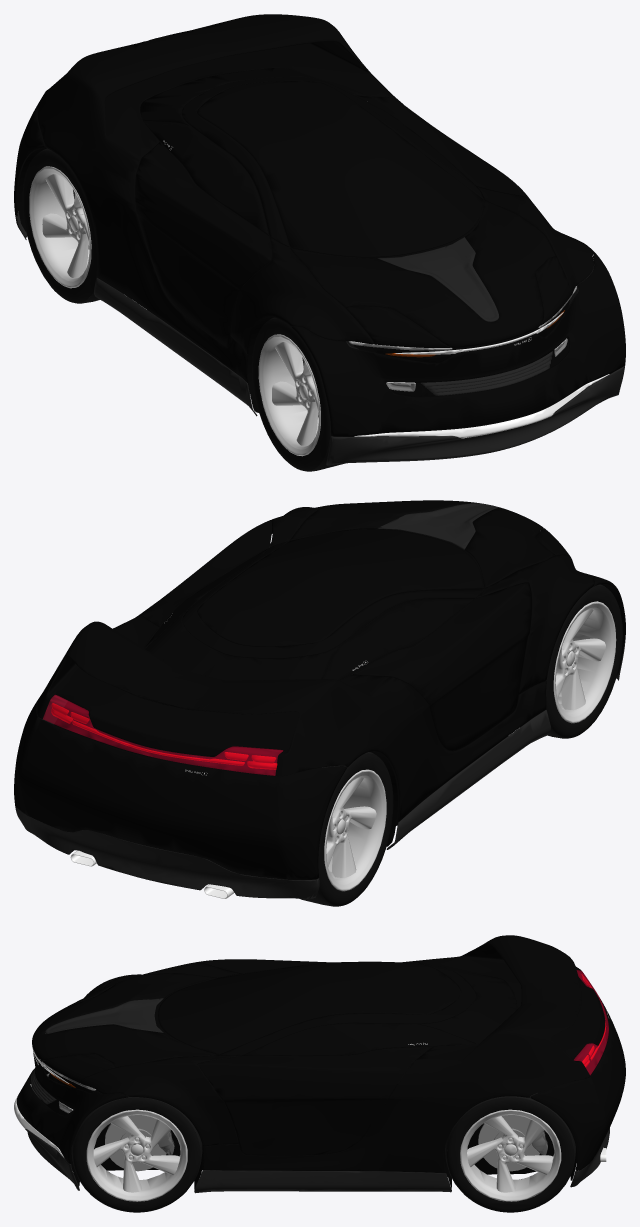
File: concept040.glb
3 views of the same model, one above another, from view 1: azimuth 30°, elevation 25°; view 2: azimuth 150°, elevation 25°; view 3: azimuth 270°, elevation 25° (orthographic). The views are drawn at different scales.
Parts seen in each view (by area): view 1: Object_7, Object_11, Object_13, Object_12, Object_15, Object_22, Object_16, Object_26, Object_8, Object_10, Object_24, Object_14 (+5 smaller); view 2: Object_11, Object_7, Object_17, Object_15, Object_12, Object_21, Object_26, Object_16, Object_8, Object_10, Object_2, Object_24 (+5 smaller); view 3: Object_11, Object_7, Object_15, Object_12, Object_8, Object_16, Object_26, Object_21, Object_17, Object_24, Object_13, Object_10 (+9 smaller).
Part boxes in pixels (bbox=[...]): Object_7: bbox=[140, 68, 483, 257]; Object_11: bbox=[37, 14, 404, 382]; Object_13: bbox=[292, 252, 625, 436]; Object_12: bbox=[182, 77, 555, 347]; Object_15: bbox=[135, 95, 529, 346]; Object_22: bbox=[326, 237, 624, 465]; Object_16: bbox=[230, 186, 594, 353]; Object_26: bbox=[29, 166, 320, 456]; Object_8: bbox=[22, 150, 569, 471]; Object_10: bbox=[18, 105, 582, 437]; Object_24: bbox=[42, 174, 318, 445]; Object_14: bbox=[345, 256, 570, 347]; Object_11: bbox=[37, 615, 546, 821]; Object_7: bbox=[144, 529, 483, 680]; Object_17: bbox=[14, 698, 346, 879]; Object_15: bbox=[137, 520, 531, 750]; Object_12: bbox=[182, 500, 555, 658]; Object_21: bbox=[15, 710, 550, 898]; Object_26: bbox=[324, 601, 616, 891]; Object_16: bbox=[270, 504, 594, 694]; Object_8: bbox=[73, 542, 622, 906]; Object_10: bbox=[54, 522, 624, 846]; Object_2: bbox=[43, 694, 282, 775]; Object_24: bbox=[326, 638, 605, 877]; Object_11: bbox=[203, 935, 605, 1172]; Object_7: bbox=[158, 962, 516, 1055]; Object_15: bbox=[198, 959, 431, 1155]; Object_12: bbox=[32, 961, 475, 1067]; Object_8: bbox=[73, 1097, 574, 1212]; Object_16: bbox=[80, 962, 240, 1145]; Object_26: bbox=[86, 1109, 561, 1201]; Object_21: bbox=[194, 1128, 609, 1193]; Object_17: bbox=[530, 979, 625, 1170]; Object_24: bbox=[93, 1119, 553, 1192]; Object_13: bbox=[16, 976, 128, 1163]; Object_10: bbox=[33, 984, 607, 1189].
Size of the model in its own units: 1.84 by 1.24 by 3.96.
